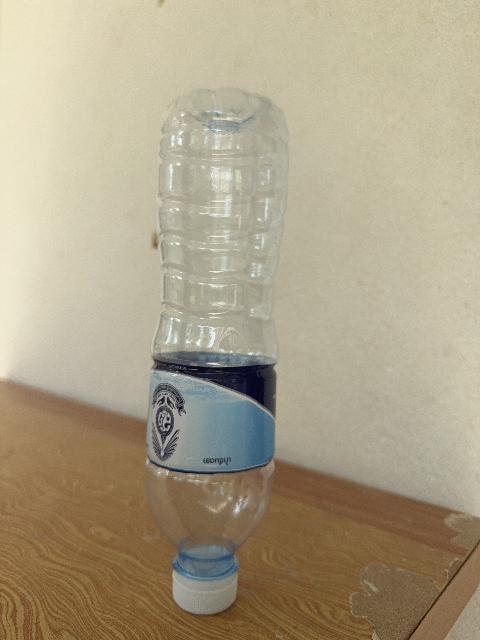bottle: (146, 89, 288, 613)
